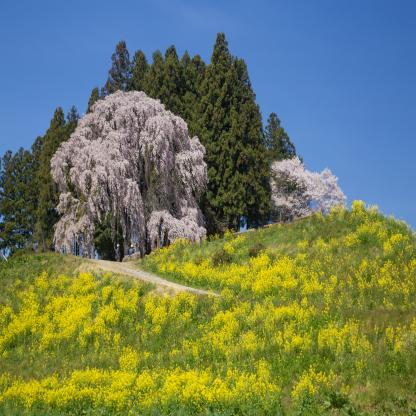ShidareZakura: (49, 88, 210, 266)
